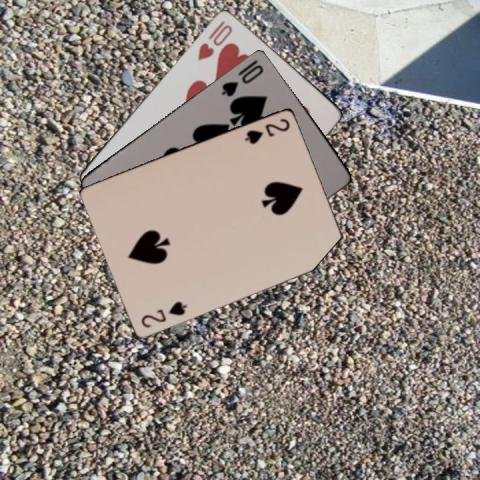10h: (195, 18, 234, 61)
10s: (219, 61, 265, 98)
2s: (138, 298, 188, 329), (241, 115, 292, 145)
